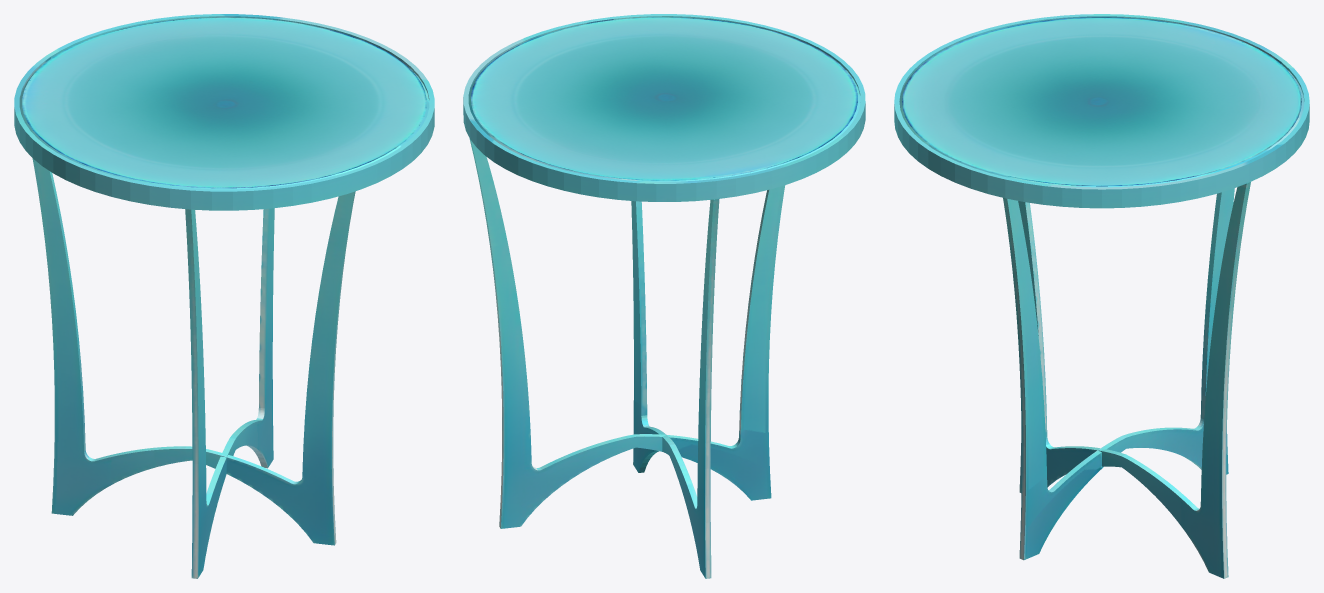
File: edited_mesh.glb
3 views of the same model, side by side, from view 1: azimuth 30°, elevation 25°; view 2: azimuth 150°, elevation 25°; view 3: azimuth 270°, elevation 25° (orthographic). The views are drawn at different scales.
Visible parts, largest first — view 1: solid_001_wire; view 2: solid_001_wire; view 3: solid_001_wire.
Boxes of the visible parts, bbox=[...] form: solid_001_wire: bbox=[14, 14, 434, 578]; solid_001_wire: bbox=[463, 14, 865, 578]; solid_001_wire: bbox=[894, 14, 1309, 578].
Size of the model in its own units: 1.23 by 1.38 by 1.23.
1 material, 1 textured.
